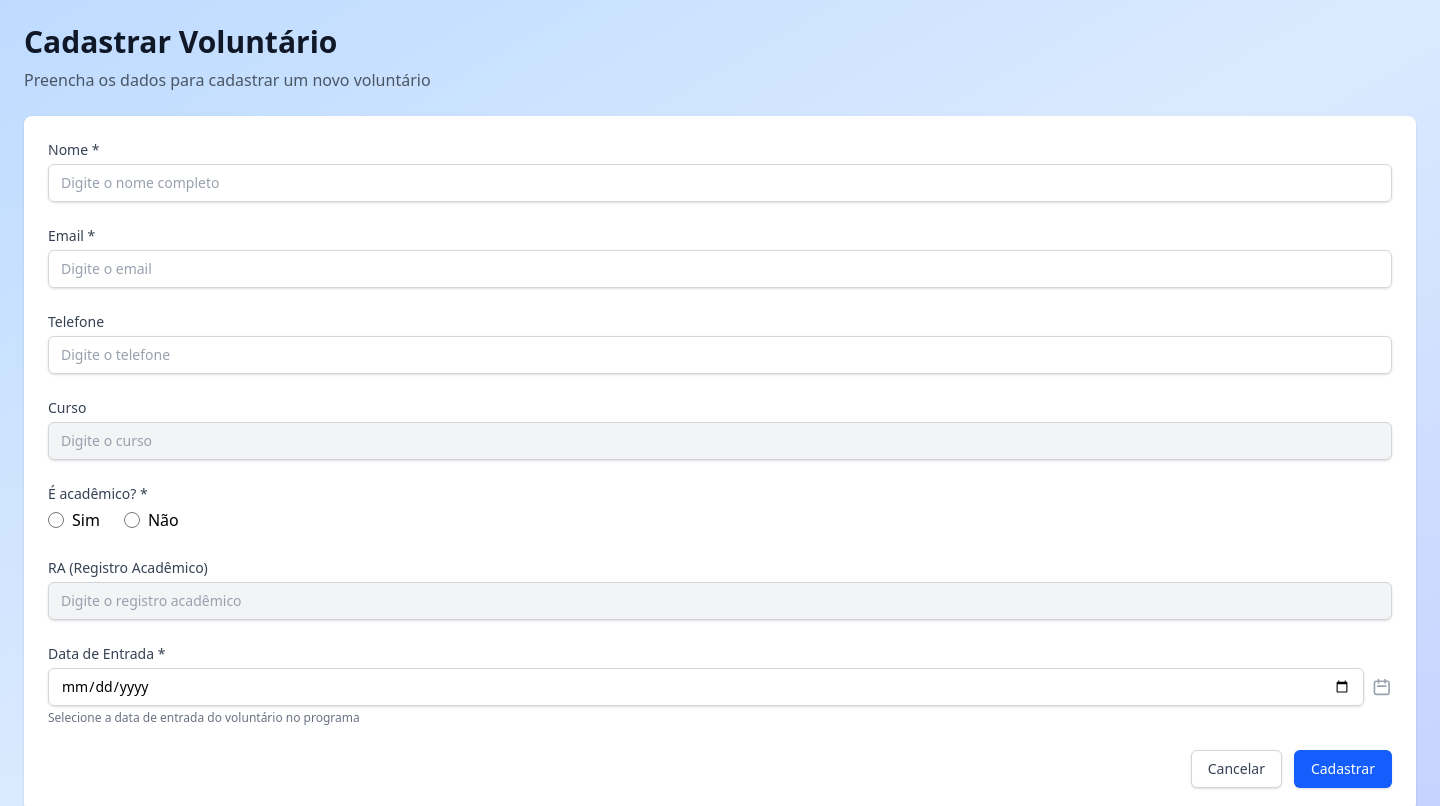
Scenario: VolunteerRegistrationPage › should show validation errors when submitting empty form
Click the button "Cadastrar". click: (1343, 769)
box: left=1294, top=750, right=1392, bottom=788
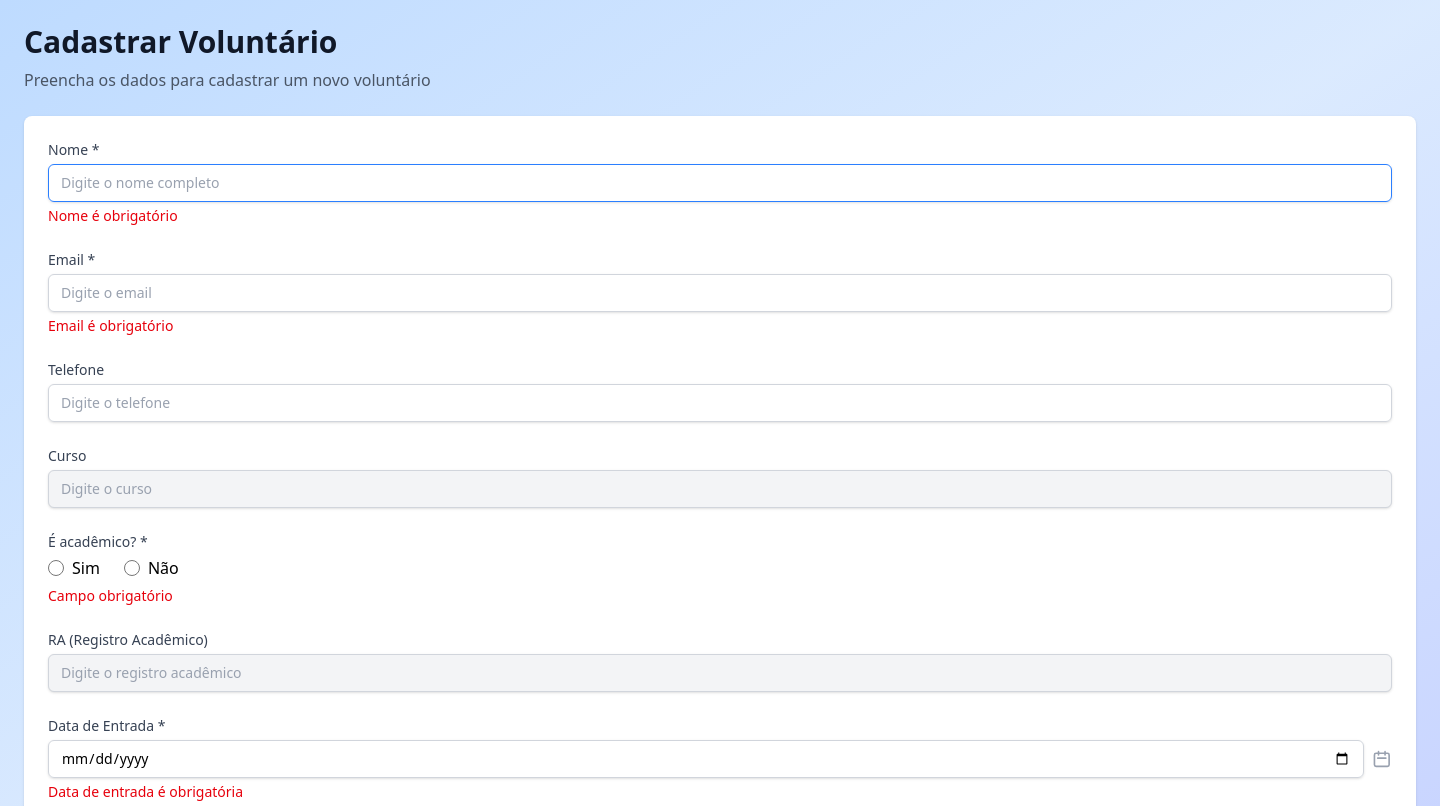
Expected: the text "Nome é obrigatório" is shown, left=48, top=206, right=178, bottom=225
Expected: the text "Email é obrigatório" is shown, left=48, top=316, right=174, bottom=335
